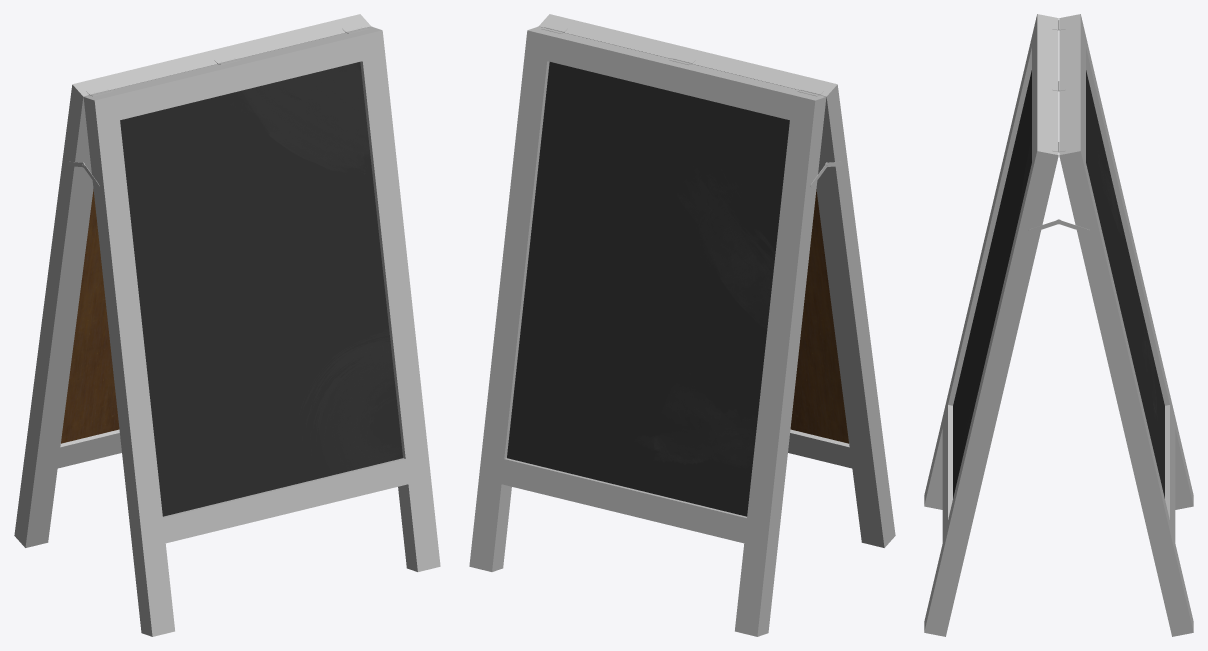
File: board.gltf
The picture shows the model from 3 angles, left to right: view 1: azimuth 30°, elevation 25°; view 2: azimuth 150°, elevation 25°; view 3: azimuth 270°, elevation 25°; orthographic projection. The views are drawn at different scales.
Parts seen in each view (by area): view 1: Object_2, Object_3; view 2: Object_2, Object_3; view 3: Object_3, Object_2.
Part boxes in pixels (bbox=[...]): Object_2: bbox=[61, 62, 402, 516]; Object_3: bbox=[14, 14, 440, 636]; Object_2: bbox=[507, 62, 848, 516]; Object_3: bbox=[469, 14, 895, 636]; Object_3: bbox=[924, 14, 1193, 636]; Object_2: bbox=[953, 70, 1164, 498].
Bounding box in the file's own units: 2.19 × 3.59 × 1.8.
